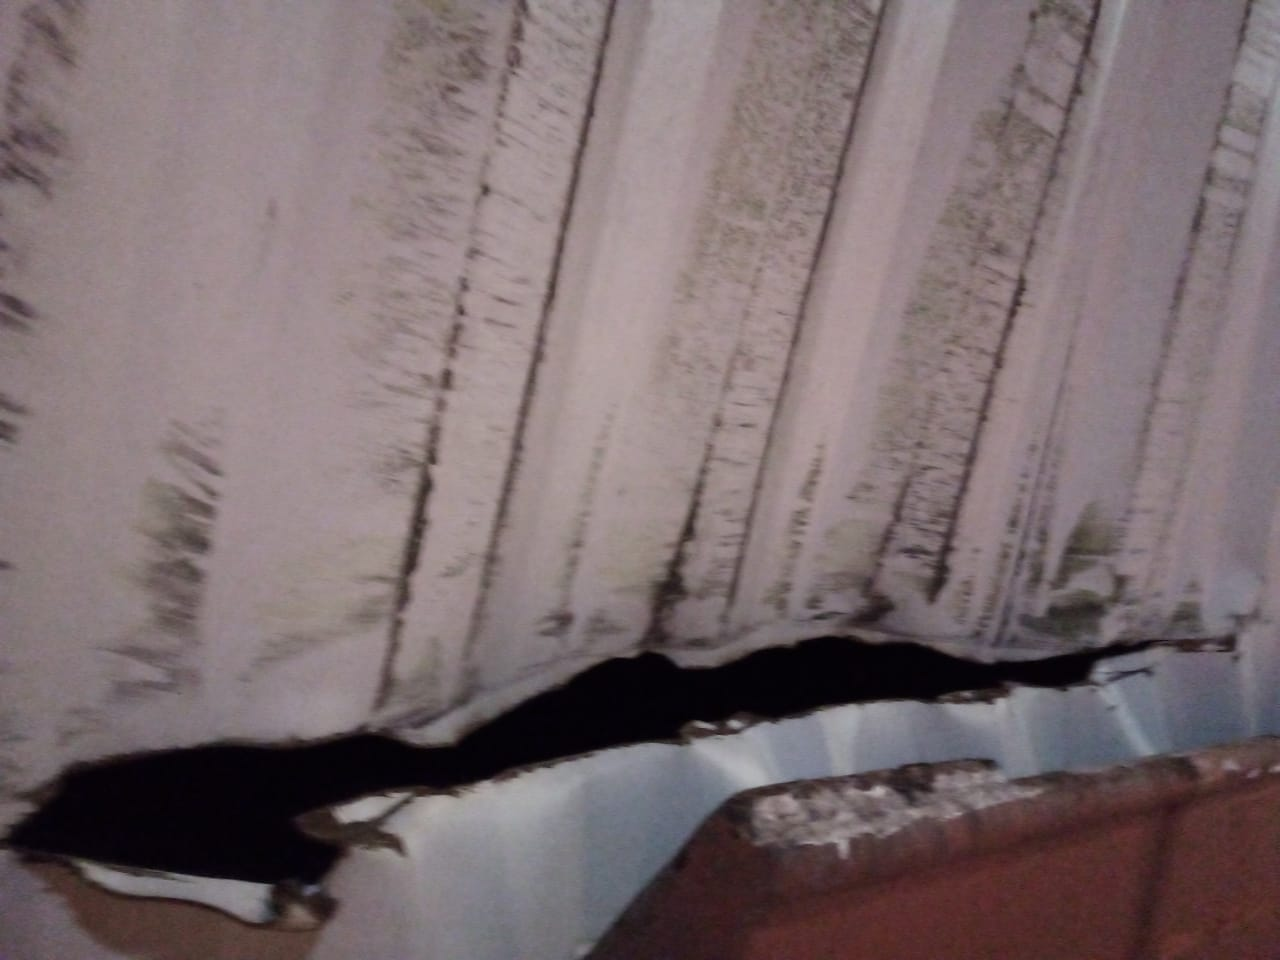cut: (18, 549, 1202, 892)
